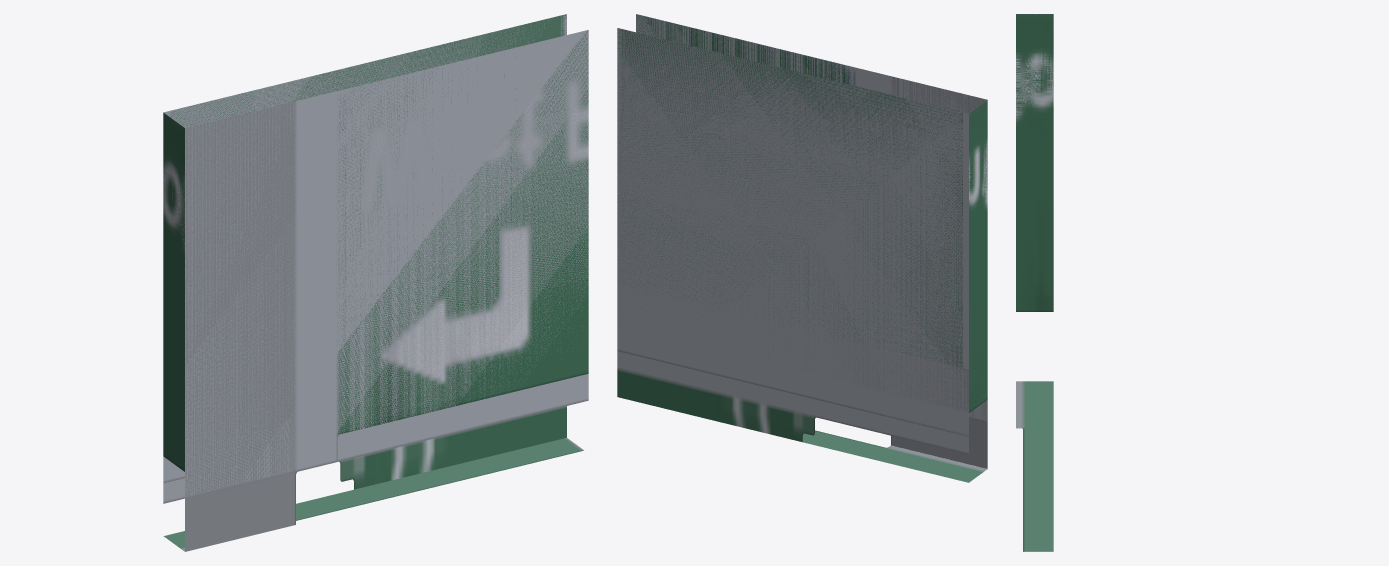
File: section-1.obj
3 views of the same model, side by side, from view 1: azimuth 30°, elevation 25°; view 2: azimuth 150°, elevation 25°; view 3: azimuth 270°, elevation 25° (orthographic). The views are drawn at different scales.
Size of the model in its own units: 0.9094 by 0.9126 by 0.8082.
